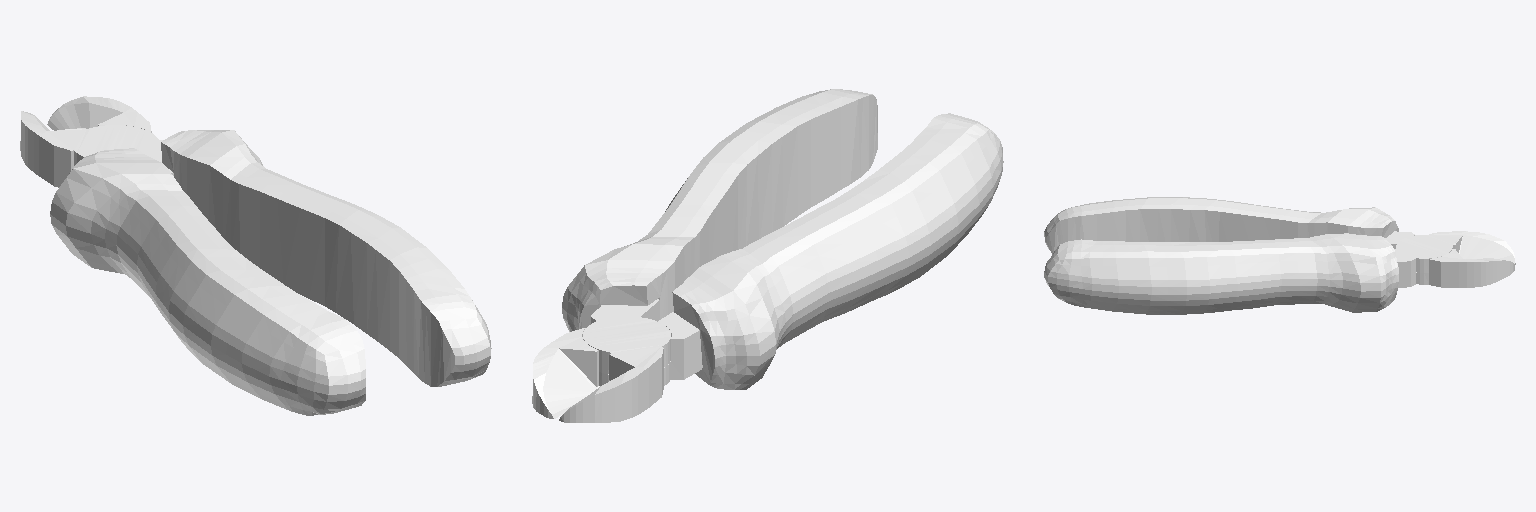
The robot description file, URDF, robot "plier":
<?xml version="1.0" ?>
    <robot name="plier">
    <link name="base">
        <inertial>
            <origin rpy="0 0 0" xyz="0 0 0"/>
            <mass value="1.0"/>
            <inertia ixx="1" ixy="0" ixz="0" iyy="1" iyz="0" izz="1"/>
        </inertial>
    <visual>
        <origin rpy="0 0 0" xyz="0 0 0"/>
        <geometry>
        <mesh filename="./meshes/plier.obj" scale="1 1 1"/>
        </geometry>
        <material name="white">
        <color rgba="1 1 1 1"/>
        </material>
    </visual>
    <collision>
        <origin rpy="0 0 0" xyz="0 0 0"/>
        <geometry>
        <mesh filename="./meshes/plier_vhacd.obj" scale="1 1 1"/>
        </geometry>
    </collision>
    </link>
    <link name="grasp">
        <inertial>
        <origin rpy="0 0 0" xyz="0 0 0"/>
        <mass value="0.0"/>
        <inertia ixx="1" ixy="0" ixz="0" iyy="1" iyz="0" izz="1"/>
        </inertial>
    </link>
    <joint name="base__grasp" type="fixed">
        <origin xyz="0.0 0.0 0.0" rpy="0.0 0.0 0.0"/>
        <parent link="base"/>
        <child link="grasp"/>
    </joint>
    </robot>

--- Render facts (derived) ---
Views: 3 orthographic renders of the robot side by side, from view 1: azimuth 30°, elevation 25°; view 2: azimuth 150°, elevation 25°; view 3: azimuth 270°, elevation 25°.
Model plier with 2 links and 1 joints (1 fixed), rooted at base, posed all joints at 0.
Links seen in each view (by area): view 1: base; view 2: base; view 3: base.
Link boxes in pixels (<box>): base: <box>20,96,491,415</box>; base: <box>532,89,1003,422</box>; base: <box>1044,197,1515,314</box>.
Bounding box of the posed robot: 0.0719 × 0.1943 × 0.0287 m (x, y, z).
Meshes: 1 distinct files referenced, 1 mesh visuals loaded (1 OBJ).